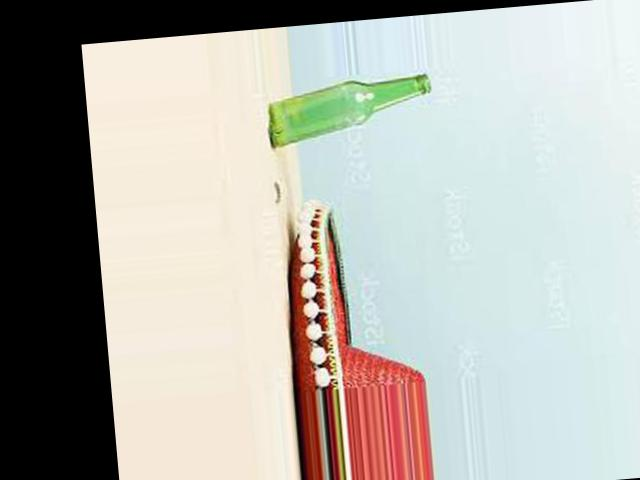beer: (261, 74, 436, 149)
